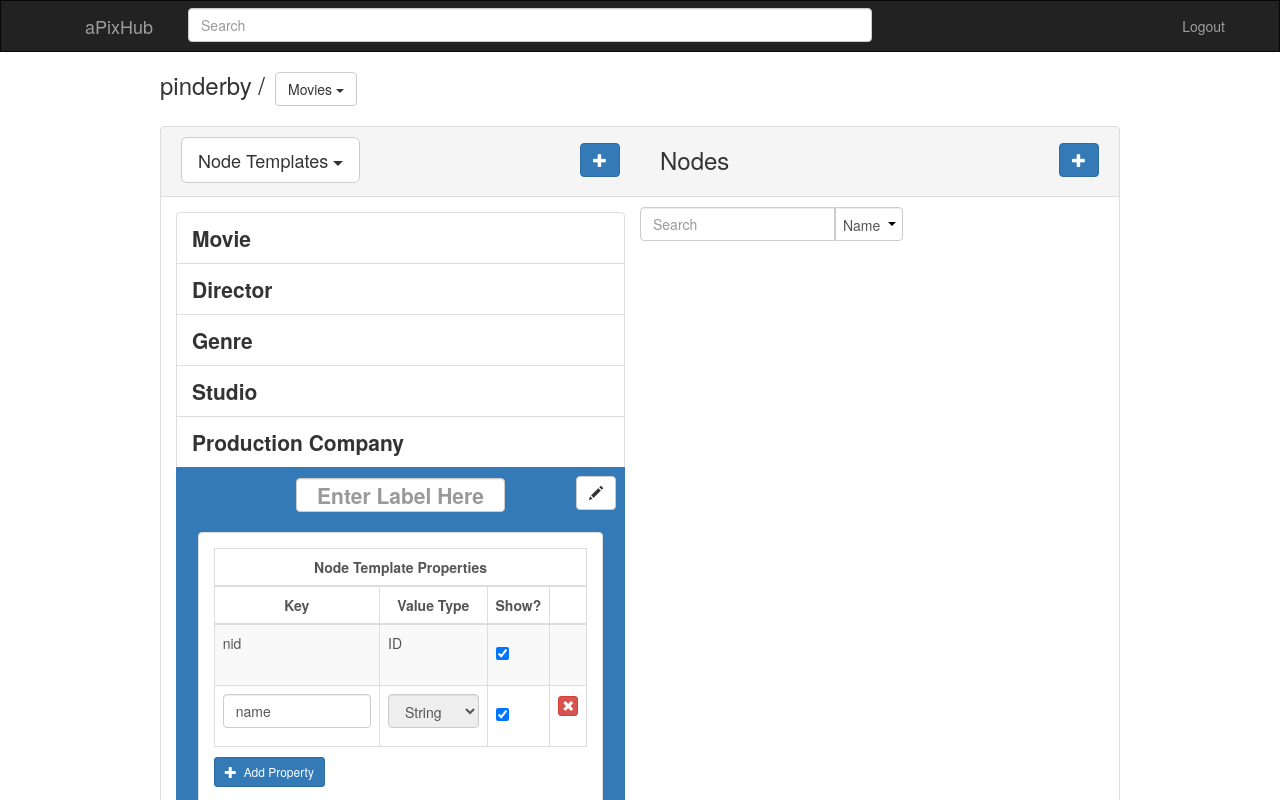
Test: Repo Component › Properly shows popover when trying to add node with no active template
Click the button with class "create-node-btn" at x=1079, y=160, box [1059,143,1099,177]
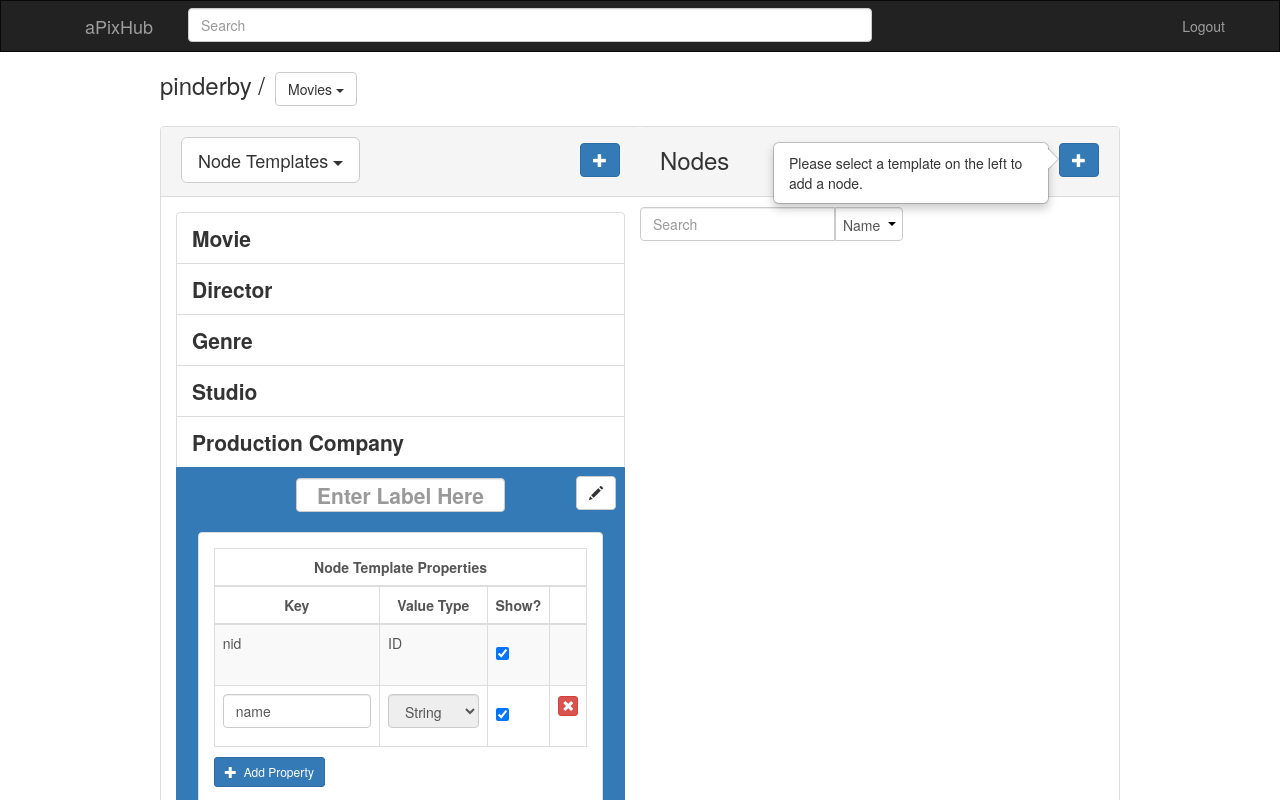
Check: the tooltip with class "select-template-popover" is shown, box [773,142,1049,204]
